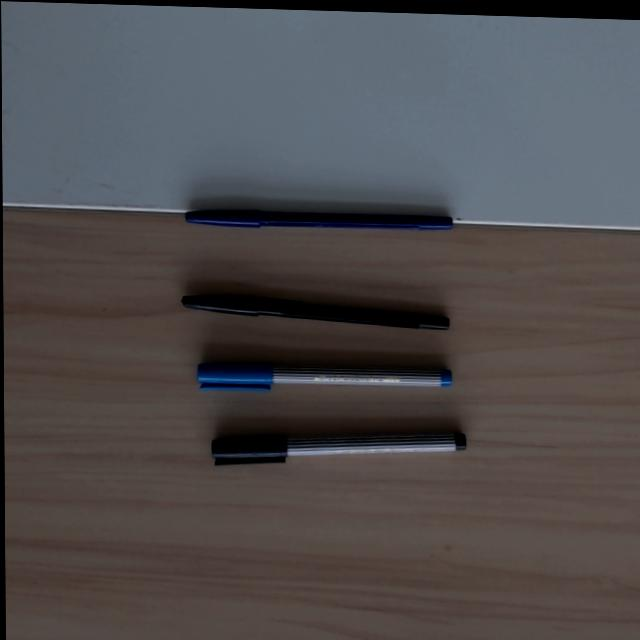Pulpen-Biru: (185, 208, 452, 233)
Pulpen-Garis-Biru: (197, 362, 452, 395)
Pulpen-Garis-Hitam: (210, 421, 468, 466)
Pulpen-Hitam: (181, 288, 449, 335)
